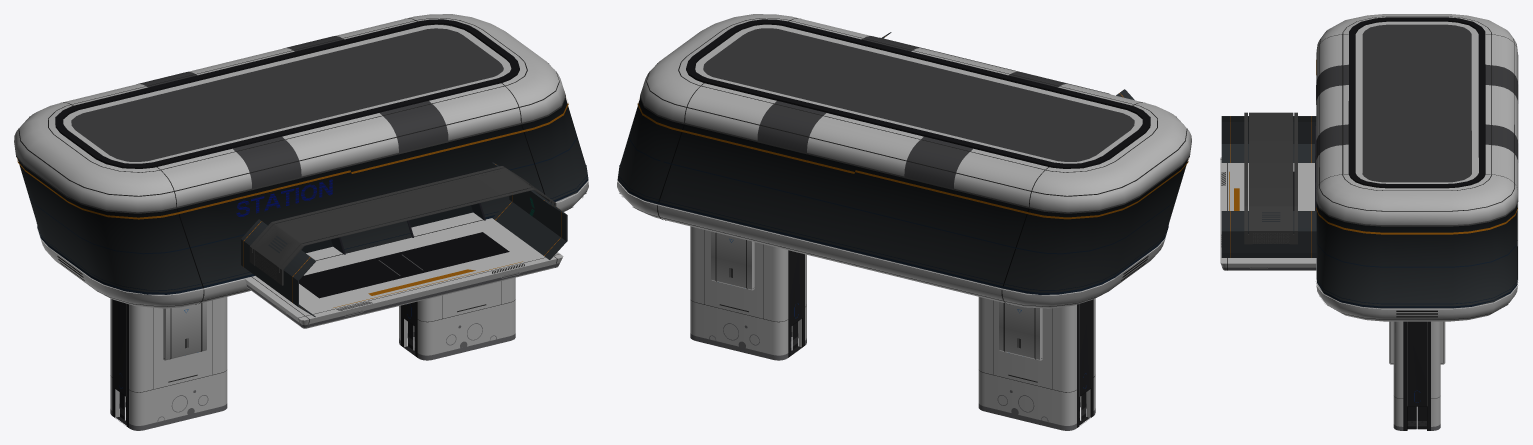
The model's file is W_O_Monorailstation_001_L1.fbx.
3 renders of one model, left to right at view 1: azimuth 30°, elevation 25°; view 2: azimuth 150°, elevation 25°; view 3: azimuth 270°, elevation 25°, orthographic. The views are drawn at different scales.
Visible parts, largest first — view 1: W_O_Monorailstation_001_L1; view 2: W_O_Monorailstation_001_L1; view 3: W_O_Monorailstation_001_L1.
Part boxes in pixels (x1,y1,x2,y2): W_O_Monorailstation_001_L1: [14, 14, 588, 430]; W_O_Monorailstation_001_L1: [617, 14, 1191, 430]; W_O_Monorailstation_001_L1: [1220, 14, 1518, 430].
Size of the model in its own units: 39.17 by 20.99 by 23.64.
